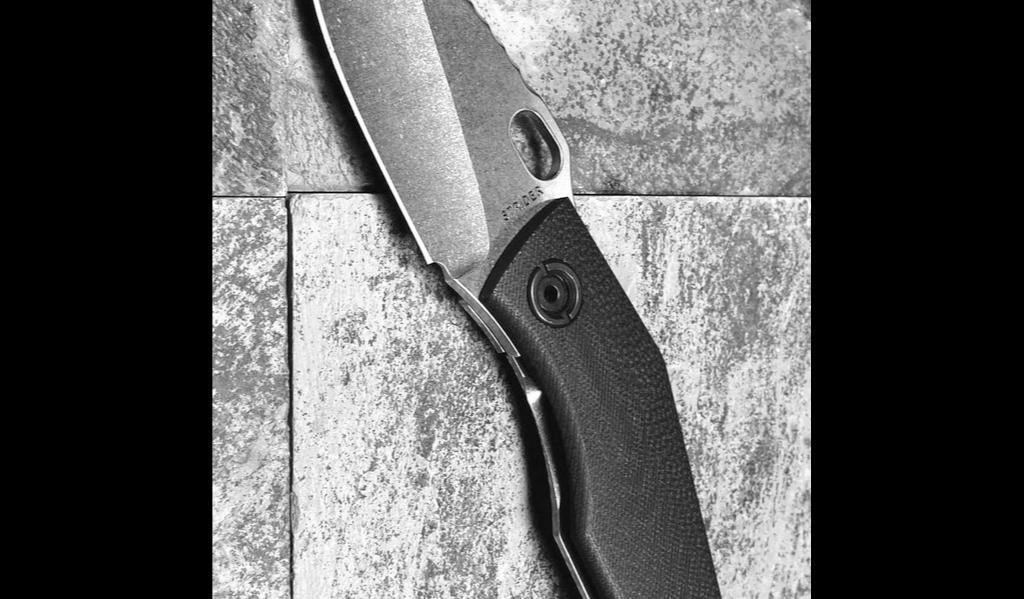melee: (297, 0, 756, 599)
